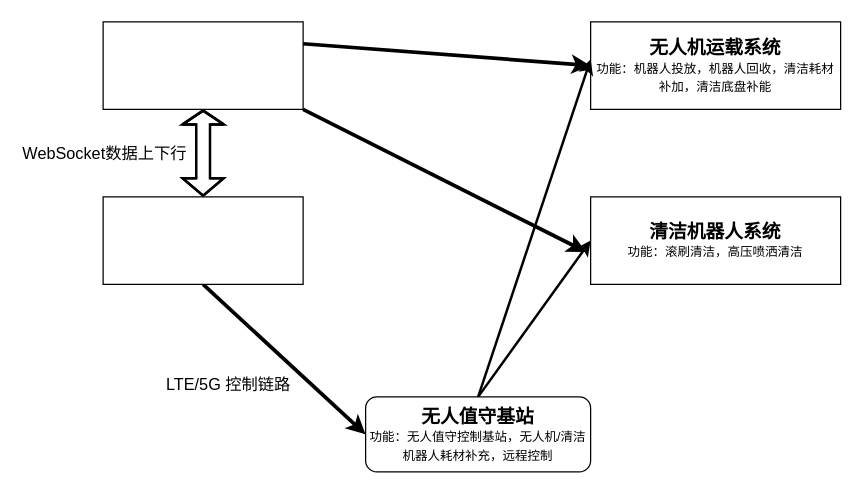
This 863x494 diagram has some shape labels left out. Each missing label, with the box of its shape:
ELRS遥控系统 功能：手动操作，紧急操作: (102, 21, 303, 109)
PC远程调度平台 功能：计划任务，远程调度: (102, 196, 303, 284)
